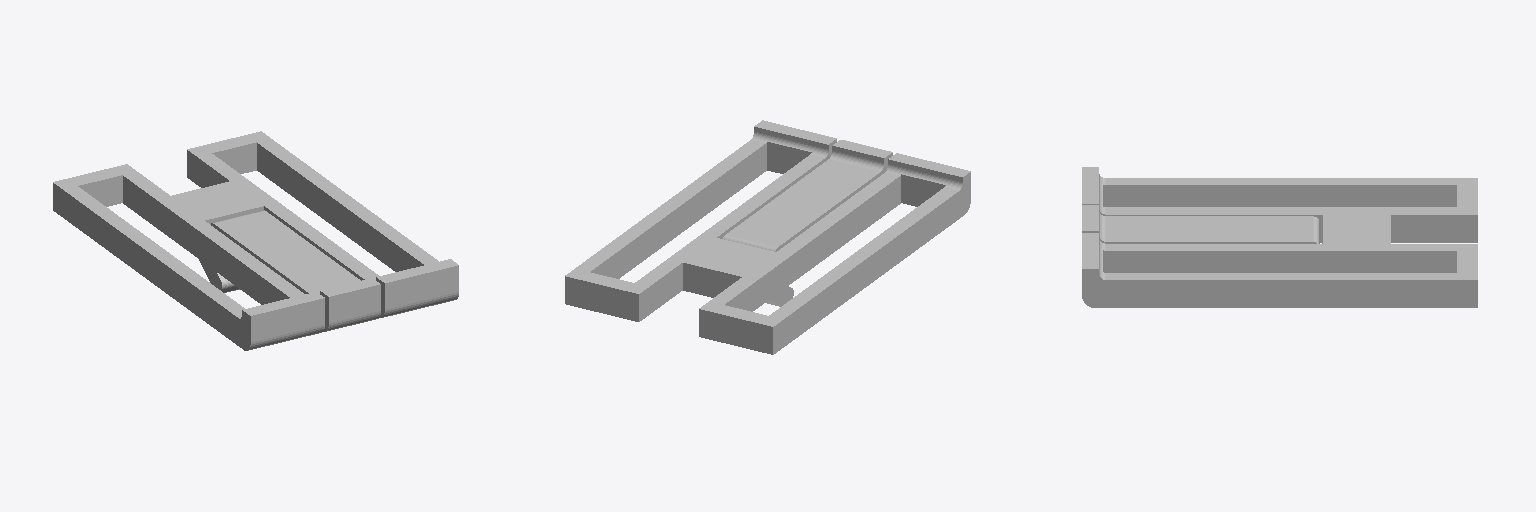
The model's file is EGAD_PhoneStand.obj.
3 views of the same model, side by side, from view 1: azimuth 30°, elevation 25°; view 2: azimuth 150°, elevation 25°; view 3: azimuth 270°, elevation 25° (orthographic).
Parts seen in each view (by area): view 1: PhoneStandTestObject; view 2: PhoneStandTestObject; view 3: PhoneStandTestObject.
Boxes of the visible parts, box(x1,y1,x2,y2) form: PhoneStandTestObject: box(53, 131, 458, 350); PhoneStandTestObject: box(565, 120, 970, 354); PhoneStandTestObject: box(1082, 167, 1477, 307).
Bounding box in the file's own units: 1.9 × 0.6576 × 3.12.